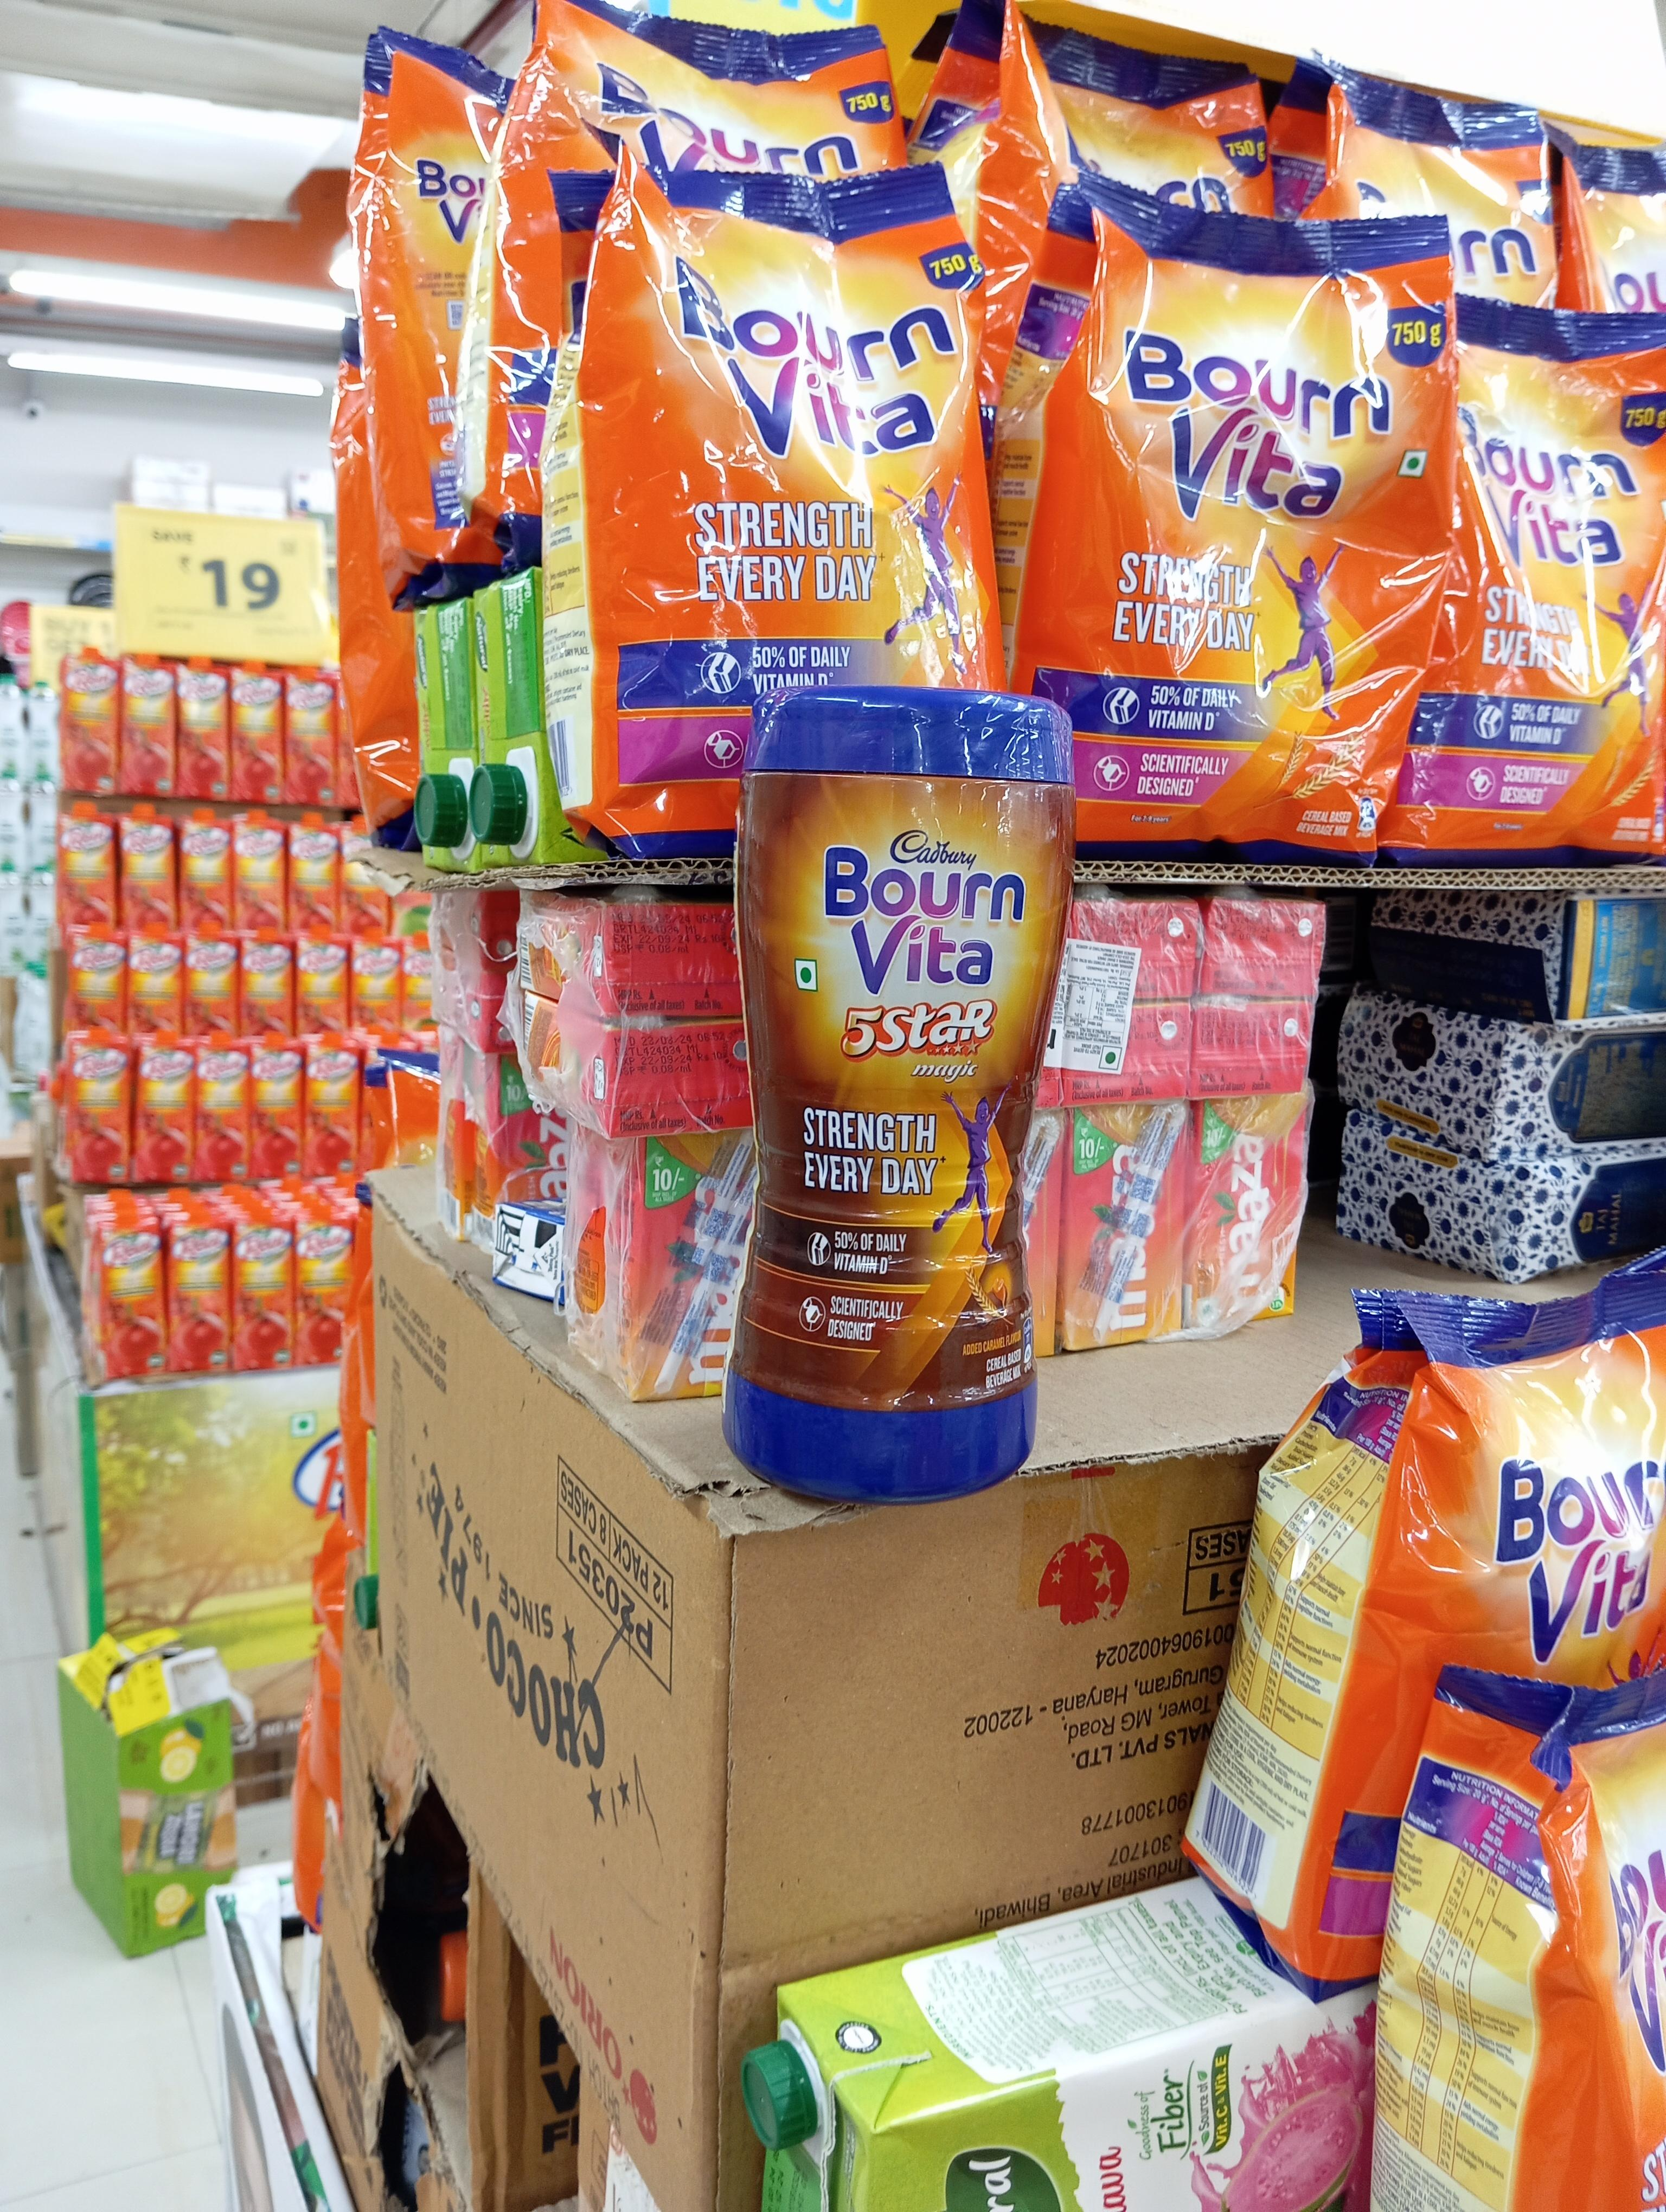BOURN_VITA_FIVE_STAR_MAGIC_500_G_JAR: (738, 668, 1069, 1499)
